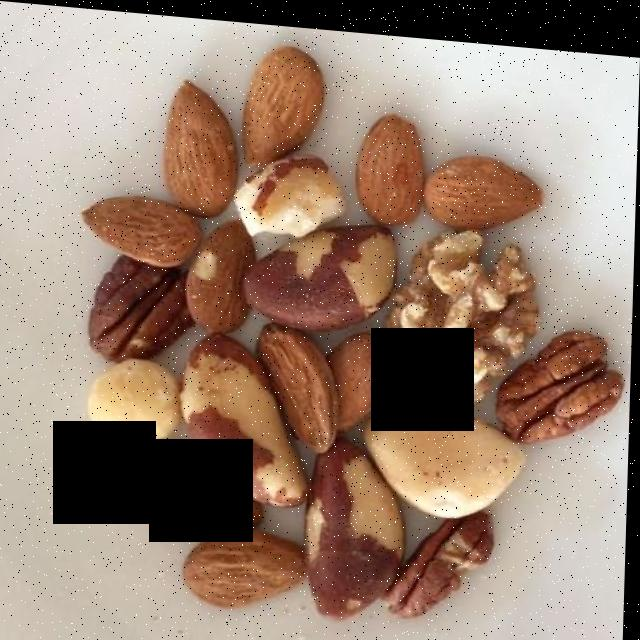mixed-nuts: (89, 49, 600, 602)
